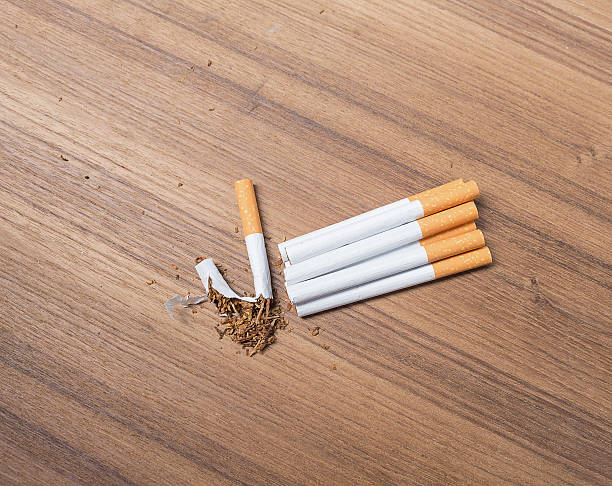cigarette: (284, 178, 482, 267), (280, 200, 480, 284), (277, 176, 468, 262), (189, 178, 276, 360), (285, 228, 488, 306), (293, 246, 493, 318), (413, 219, 478, 248)
